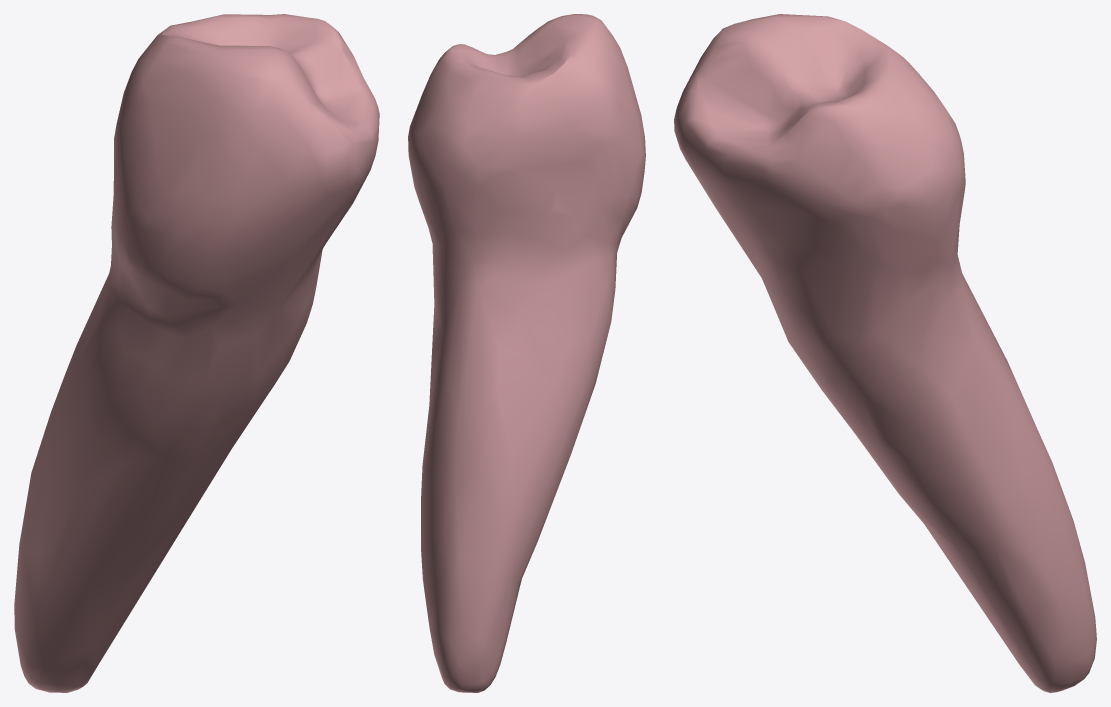
Rendered from fma55695_fj1271.glb.
3 views of the same model, side by side, from view 1: azimuth 30°, elevation 25°; view 2: azimuth 150°, elevation 25°; view 3: azimuth 270°, elevation 25° (orthographic). The views are drawn at different scales.
Parts seen in each view (by area): view 1: FMA55695_FJ1271; view 2: FMA55695_FJ1271; view 3: FMA55695_FJ1271.
Boxes of the visible parts, left/top/right/bottom form: FMA55695_FJ1271: left=14, top=14, right=379, bottom=692; FMA55695_FJ1271: left=408, top=14, right=645, bottom=692; FMA55695_FJ1271: left=674, top=14, right=1096, bottom=692.
Size of the model in its own units: 0.00811 by 0.0234 by 0.0133.
